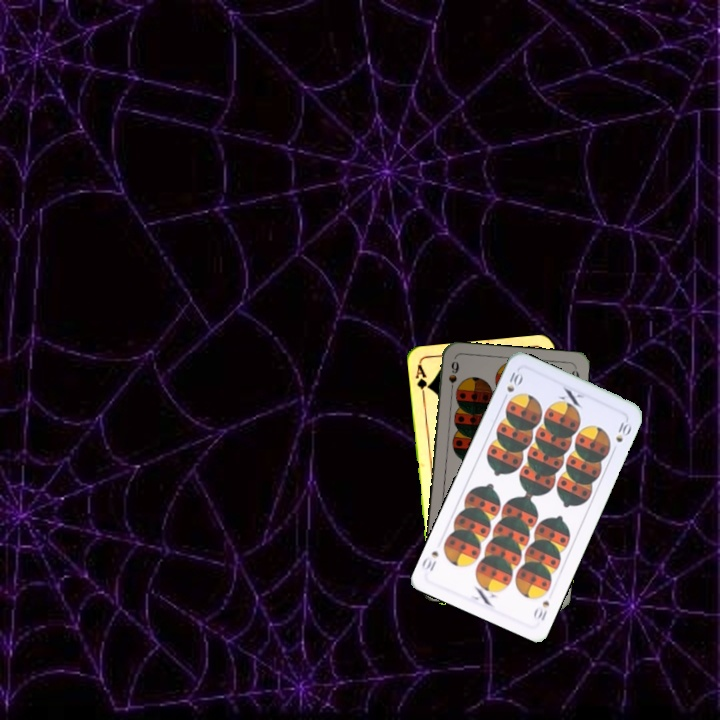GA: (411, 361, 432, 401)
S10: (499, 366, 526, 404), (529, 597, 552, 623)
S9: (445, 357, 461, 397)
